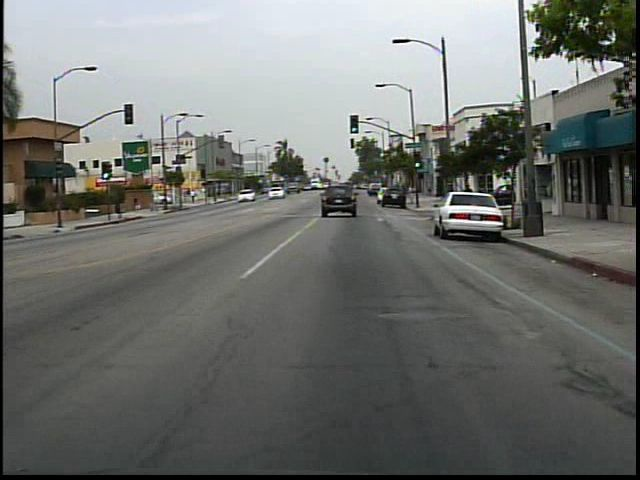person: (458, 178, 478, 217), (129, 191, 148, 220), (190, 188, 198, 206)
